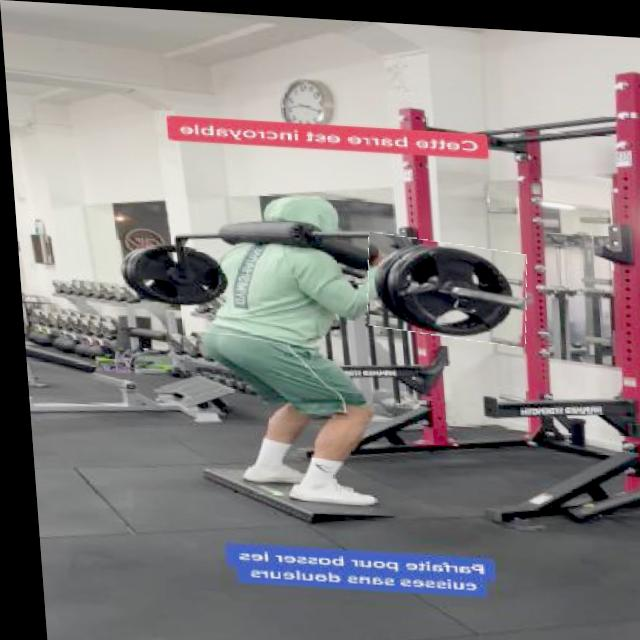barbell: (361, 231, 527, 339)
